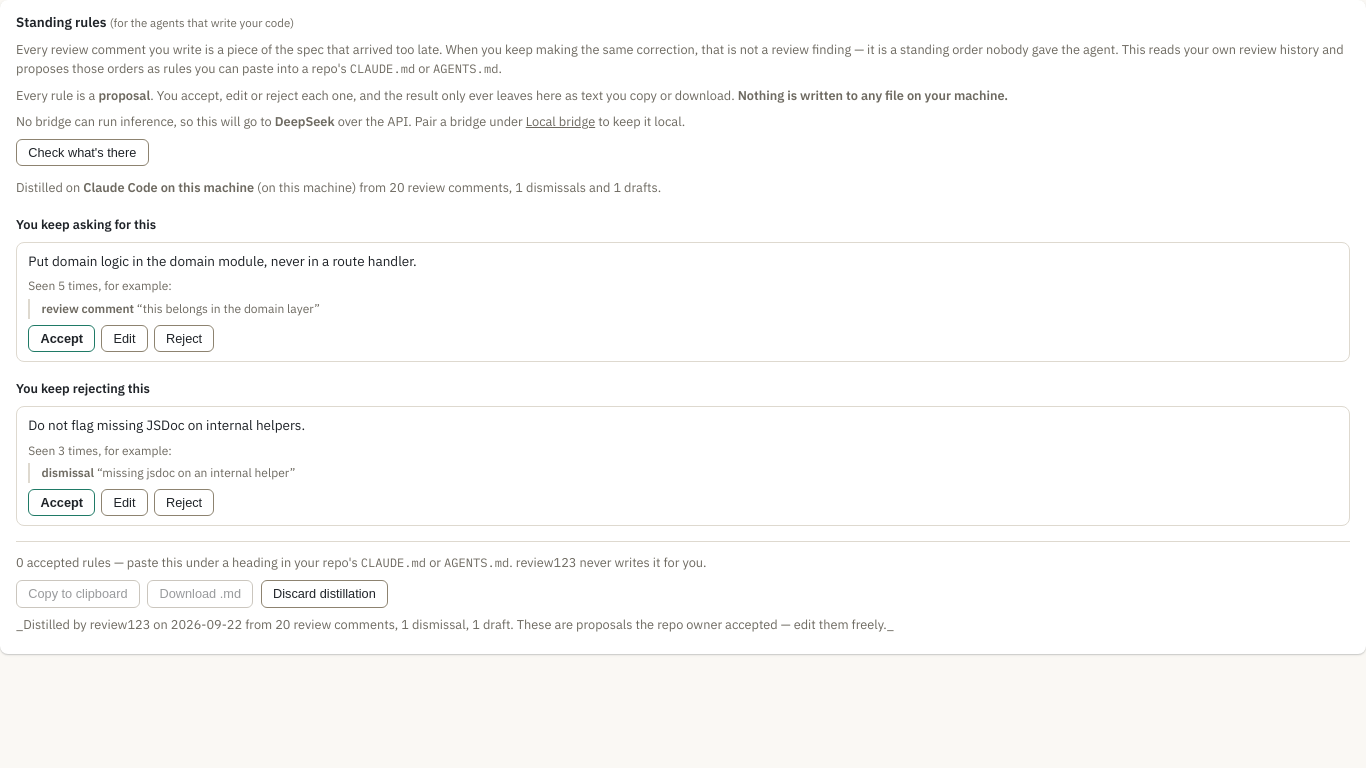
Test: accept / edit / reject › editing rewrites the rule and marks it edited
Click the button with aria-label "edit rule".
click(125, 338)  # box [101,325,148,352]
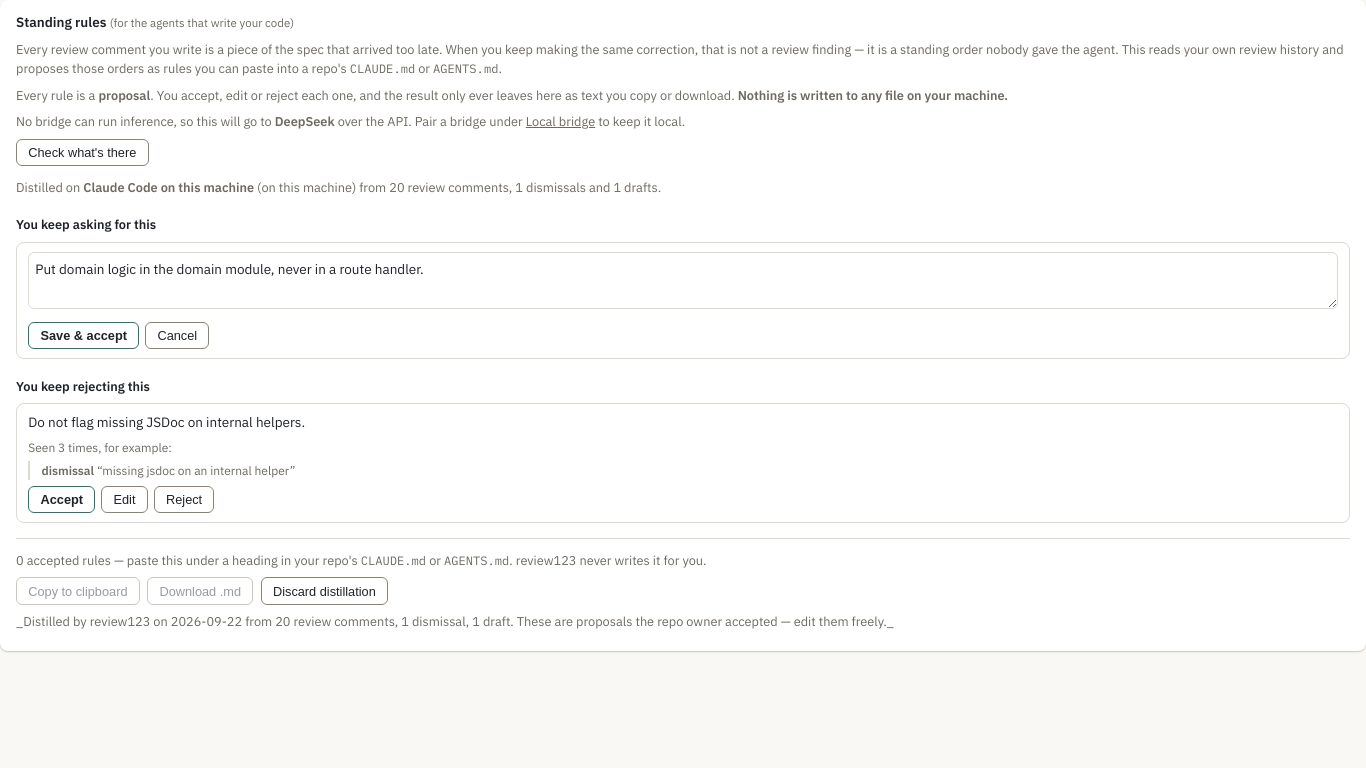
Replace the text in the text box named "edit rule" with "My sharper wording." at {"x": 683, "y": 280}, box [28,252,1338,309]
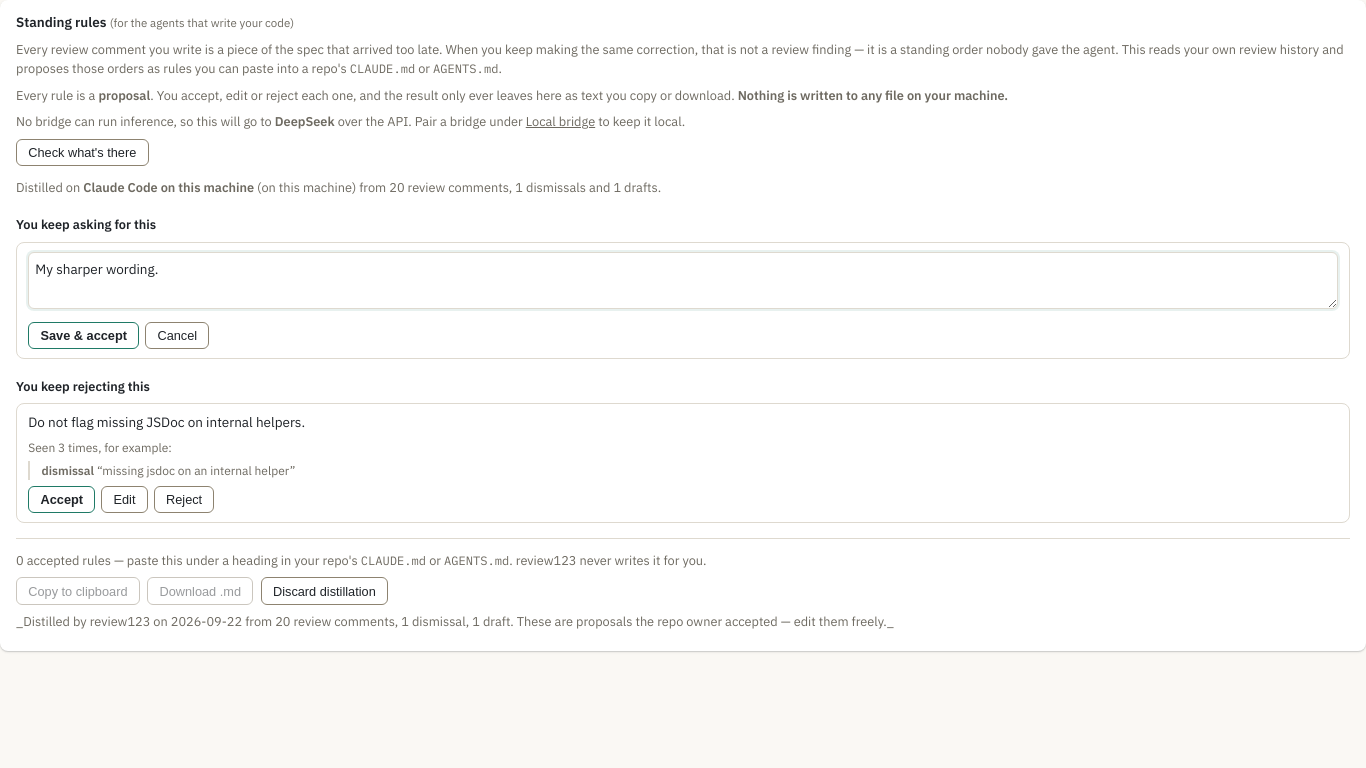
Click the button "Save & accept".
click(84, 336)  # box [28,322,139,349]
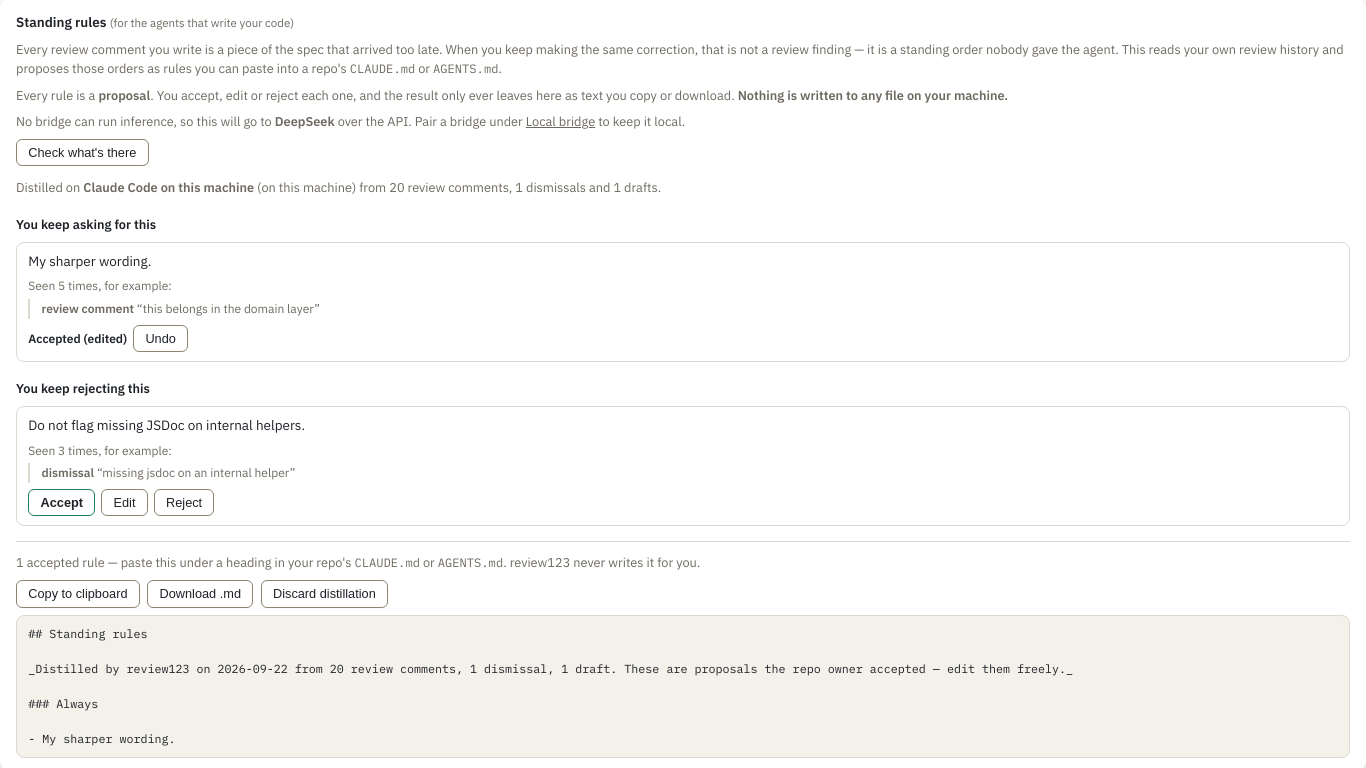
Check: the list item with test id "standing-rule" shows "My sharper wording.", box [28,252,152,270]
Check: the text with test id "standing-rule-decided" reads "Accepted (edited)", box [28,331,127,346]
